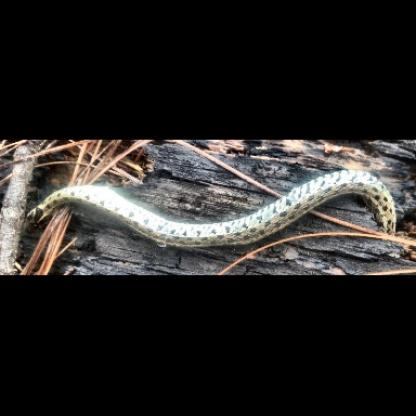Snake: (35, 166, 408, 249)
